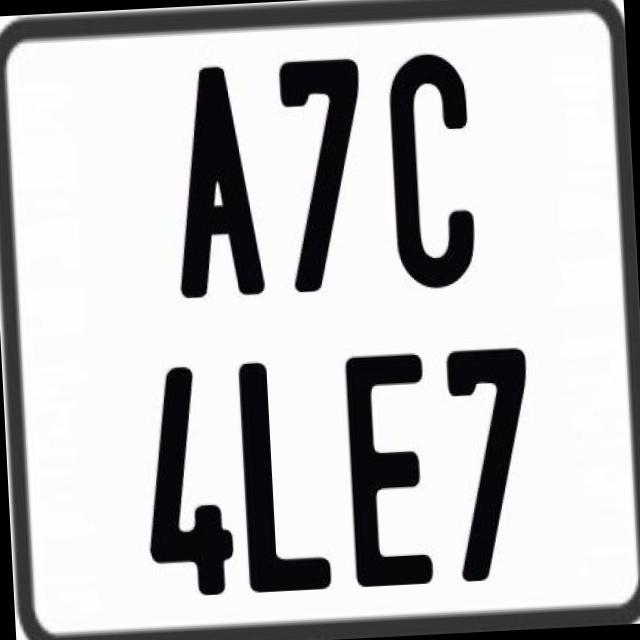4: (136, 360, 232, 596)
7: (274, 59, 374, 298), (445, 342, 539, 584)
A: (166, 64, 264, 304)
C: (385, 52, 483, 290)
E: (344, 353, 440, 597)
L: (237, 360, 333, 599)
